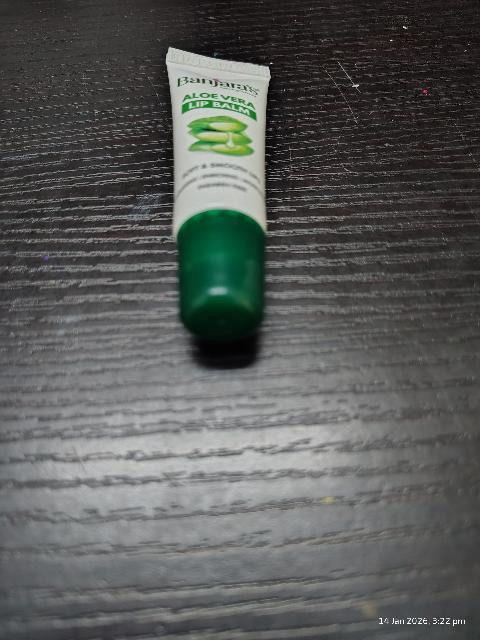banjaras lipbam: (166, 47, 282, 333)
